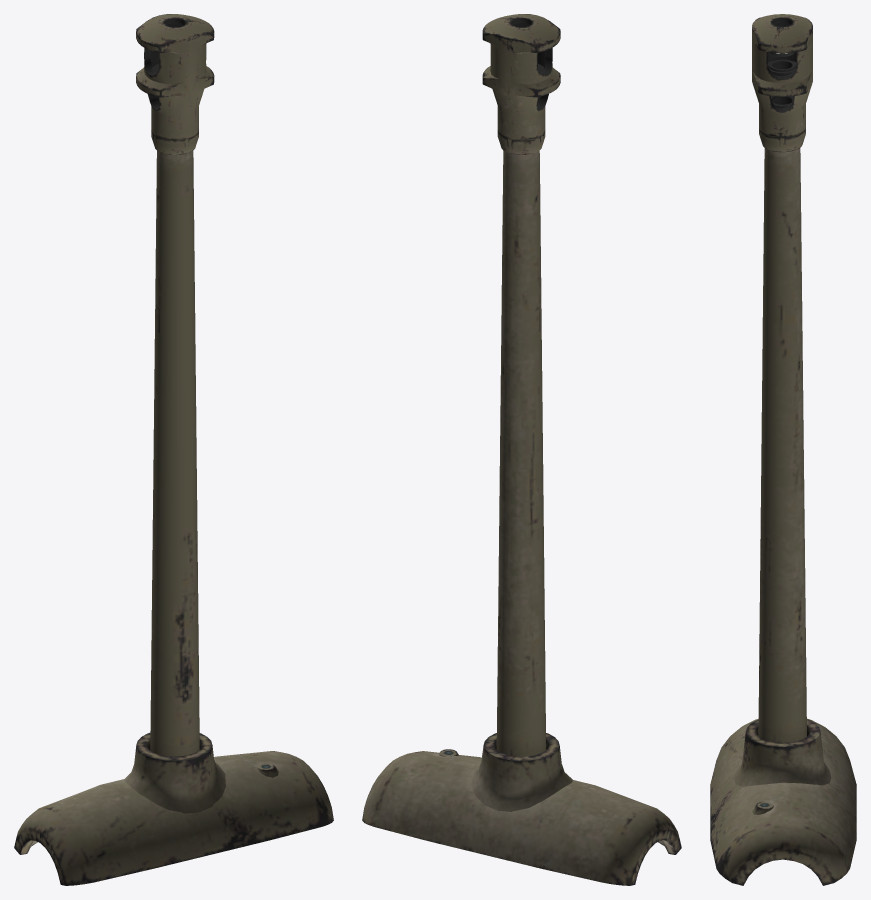
Rendered from Gun_03.glb.
3 renders of one model, left to right at view 1: azimuth 30°, elevation 25°; view 2: azimuth 150°, elevation 25°; view 3: azimuth 270°, elevation 25°, orthographic.
Parts seen in each view (by area): view 1: set_0_group_0; view 2: set_0_group_0; view 3: set_0_group_0.
Part boxes in pixels (bbox=[...]): set_0_group_0: bbox=[14, 14, 333, 885]; set_0_group_0: bbox=[362, 14, 681, 885]; set_0_group_0: bbox=[710, 14, 856, 885].
Size of the model in its own units: 1.14 by 3.3 by 0.5478.
1 material, 1 textured.
